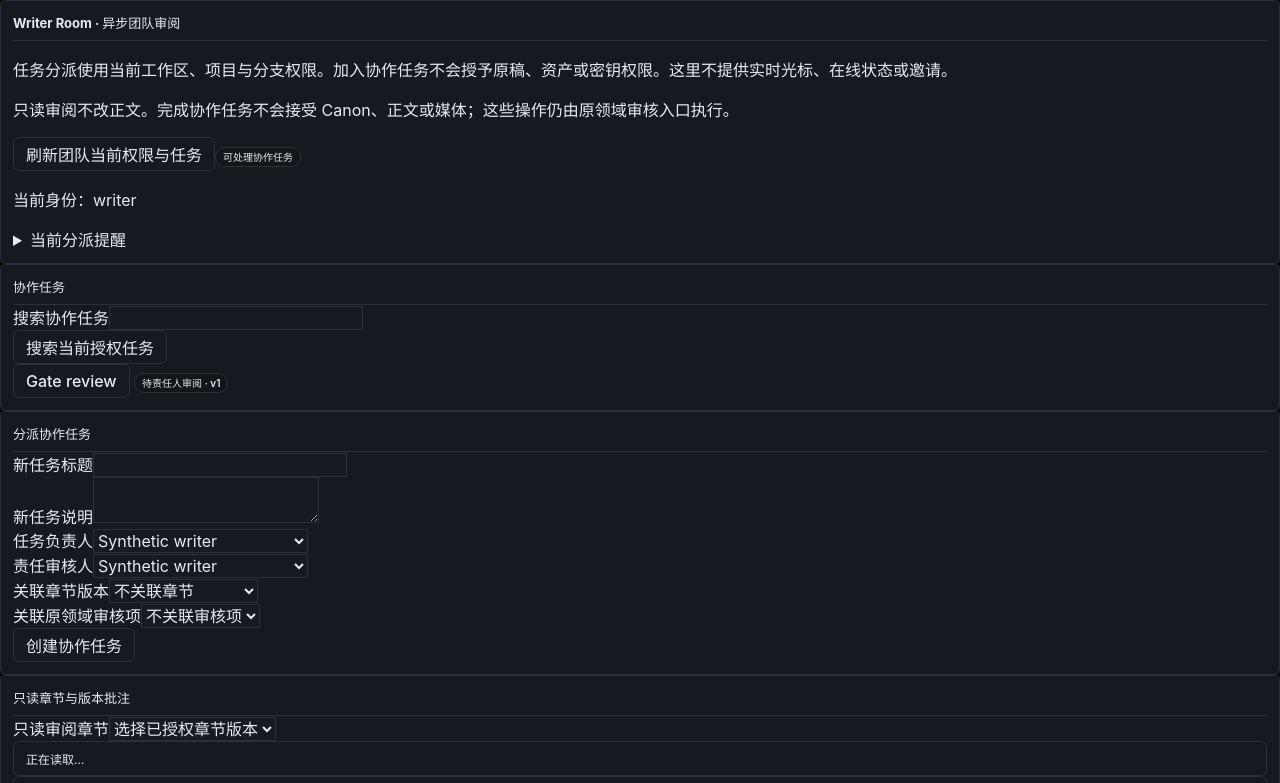
Test: does not substitute the catalog chapter when the task-pinned revision is stale
Click the button "Gate review" at (71, 381), box [13,364,130,398]
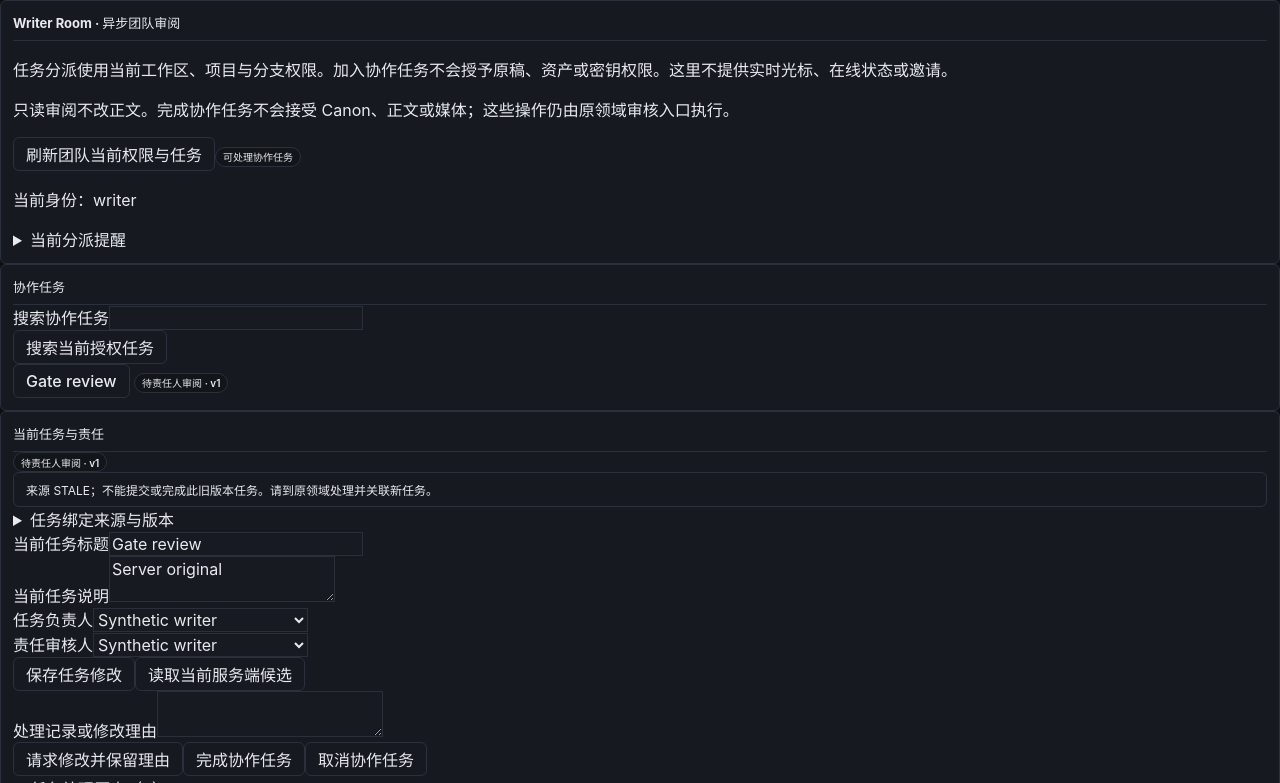
Now the button "完成协作任务" is disabled, box [183,742,305,776]
Click the heading "任务绑定来源与版本" at (102, 520), box [30,510,174,530]
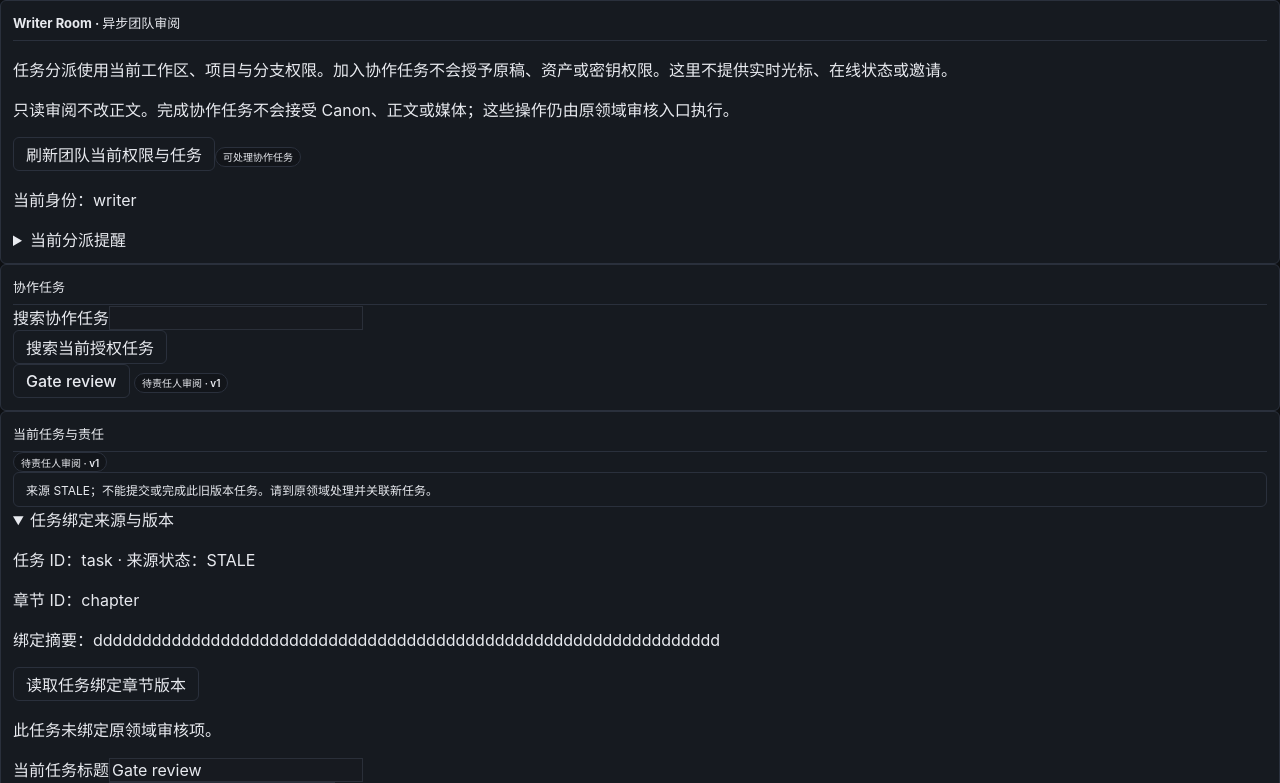
Click the button "读取任务绑定章节版本" at (106, 684), box [13,667,199,701]
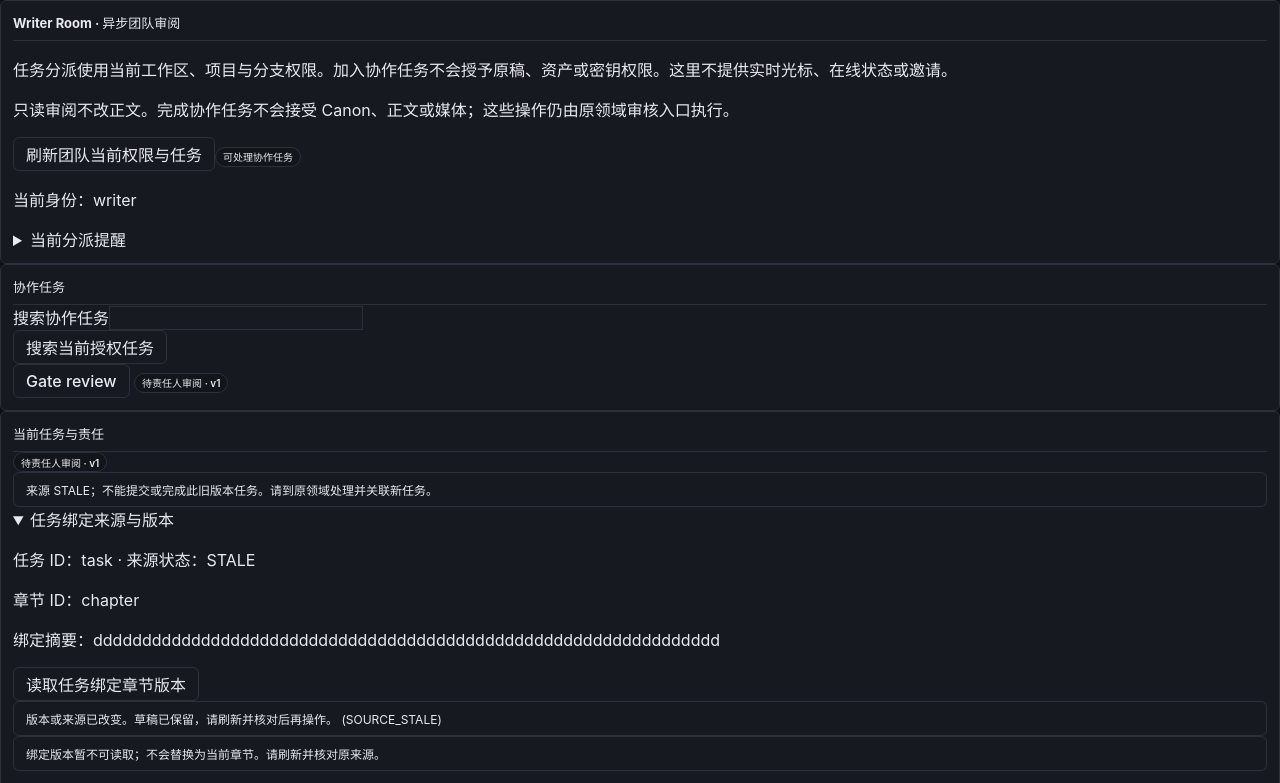
Now the text "绑定版本暂不可读取；不会替换为当前章节。请刷新并核对原来源。" is shown, box [13,736,1267,771]
